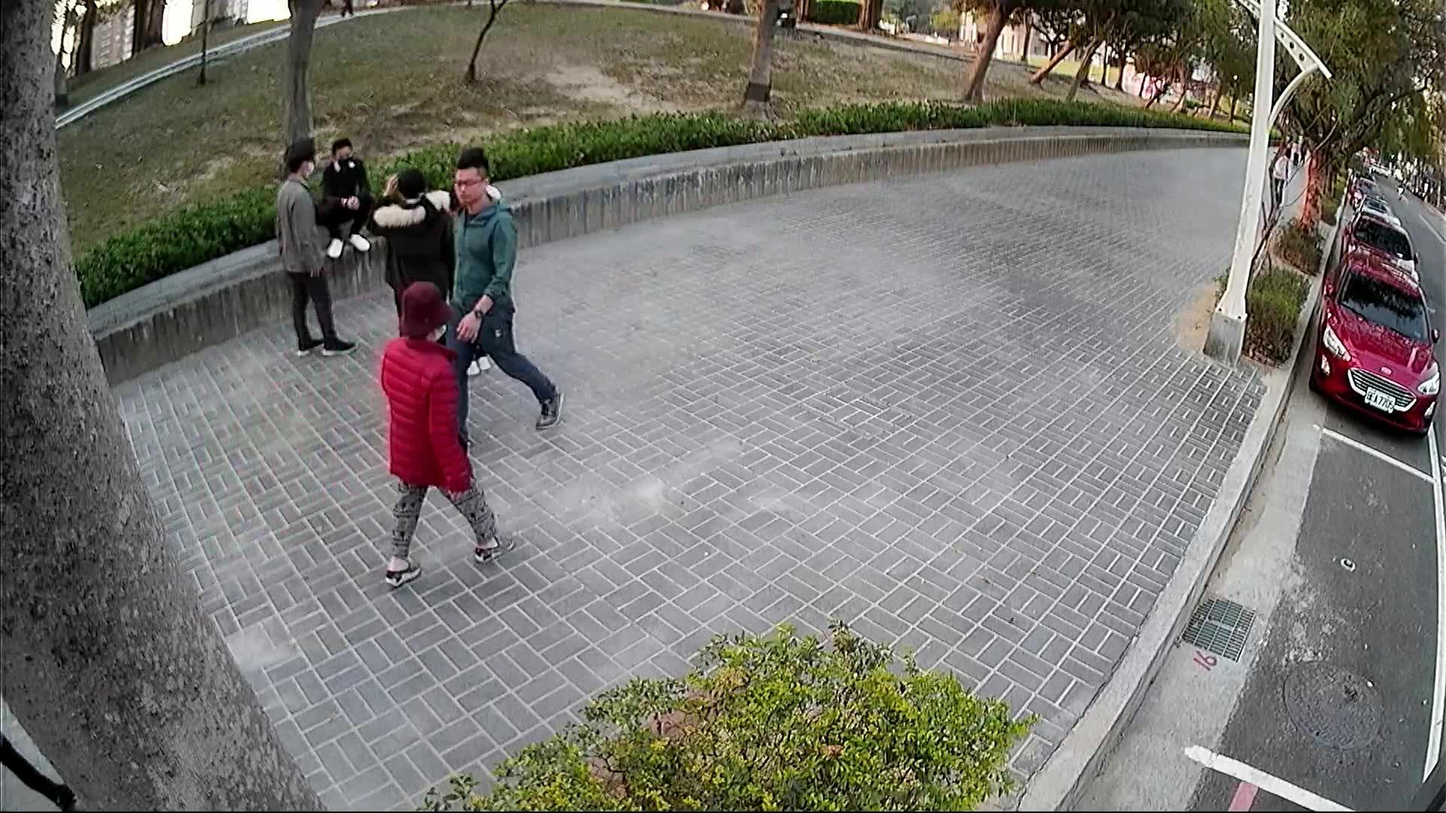person: (368, 271, 520, 594), (442, 138, 566, 452), (268, 130, 361, 359), (360, 162, 456, 346), (314, 134, 375, 260), (1269, 143, 1292, 211), (1287, 133, 1303, 168)
